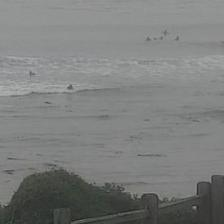surfer: (29, 70, 36, 76), (67, 84, 74, 90), (154, 36, 163, 40), (163, 29, 169, 35), (146, 36, 152, 41), (175, 36, 180, 41)
